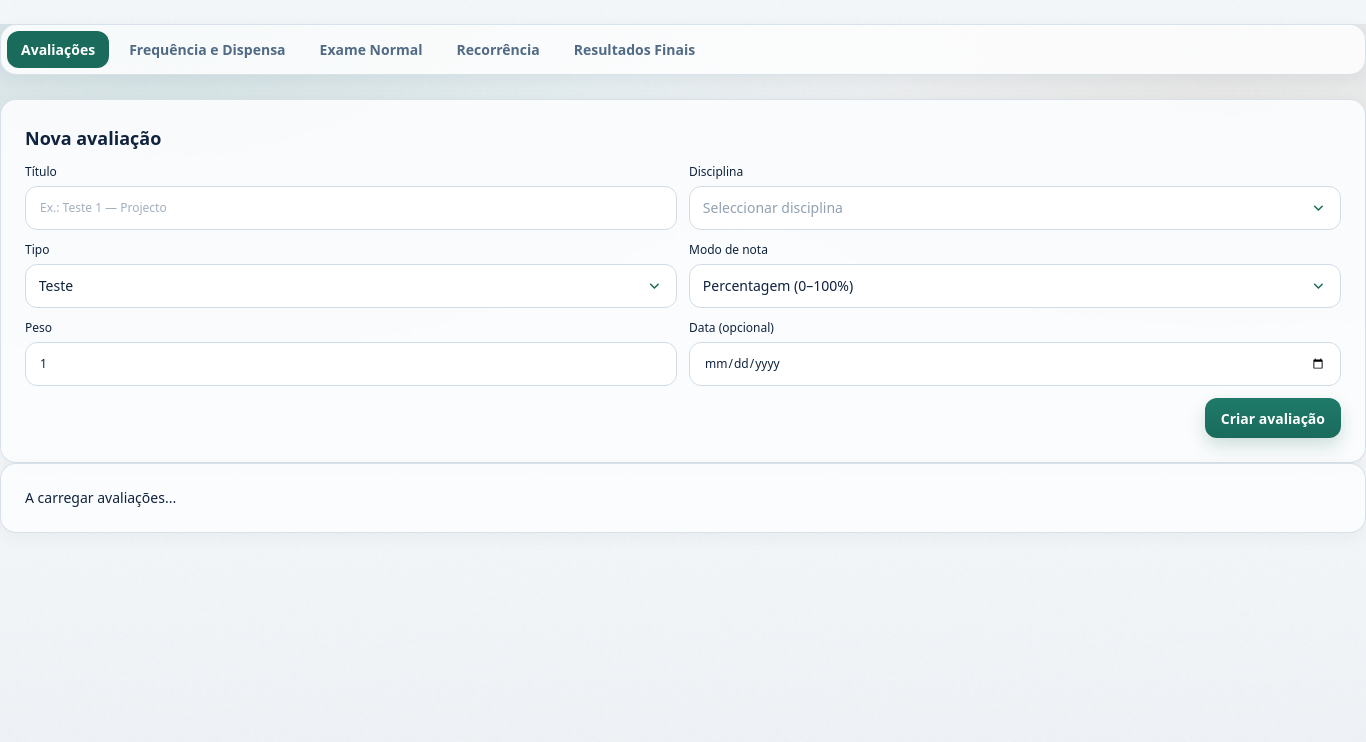
AssessmentsPage › docente vê os 5 separadores e o quadro de Frequência e Dispensa com contagens e estados
Click the tab "Frequência e Dispensa": click(207, 50) [115,31,300,68]
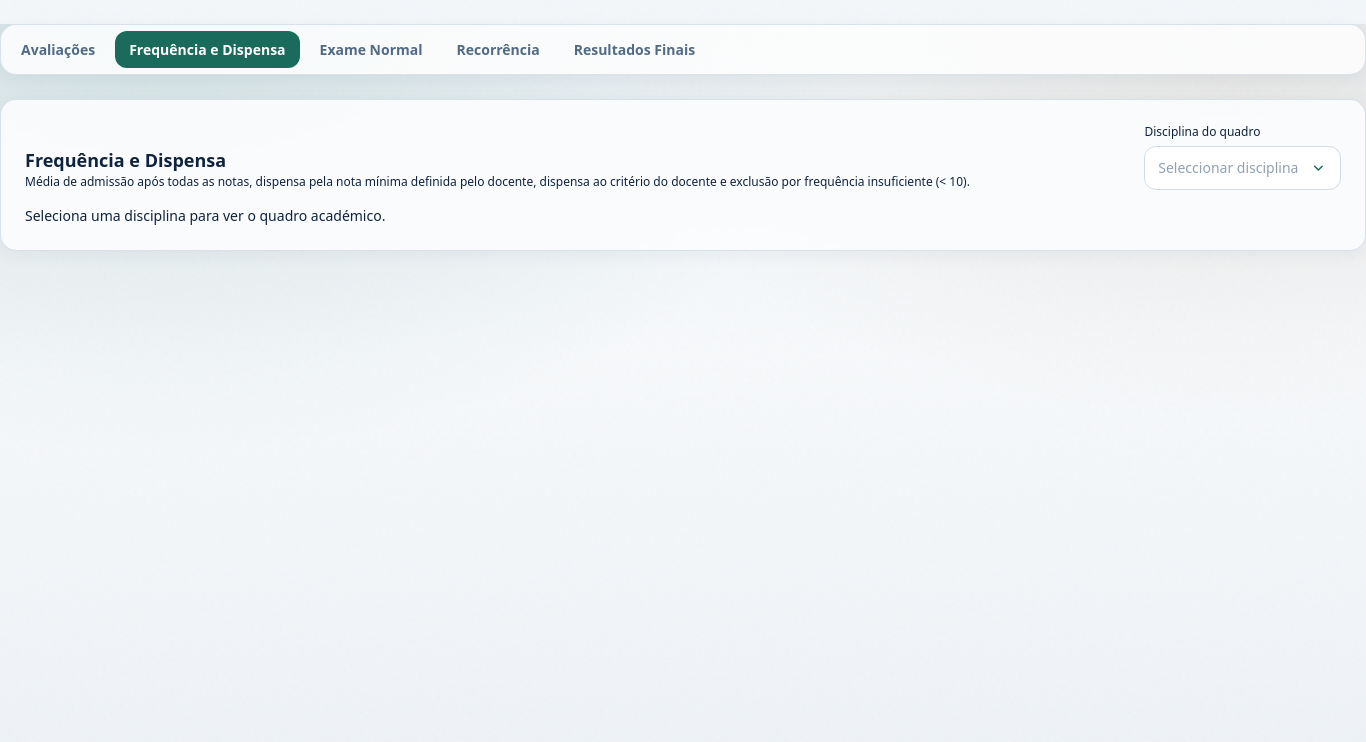
expect the label labelled "Disciplina do quadro" is shown: met
Select "PTP3 — Projeto" in the dropdown labelled "Disciplina do quadro Seleccionar disciplina": (1243, 157) [1144,124,1341,190]
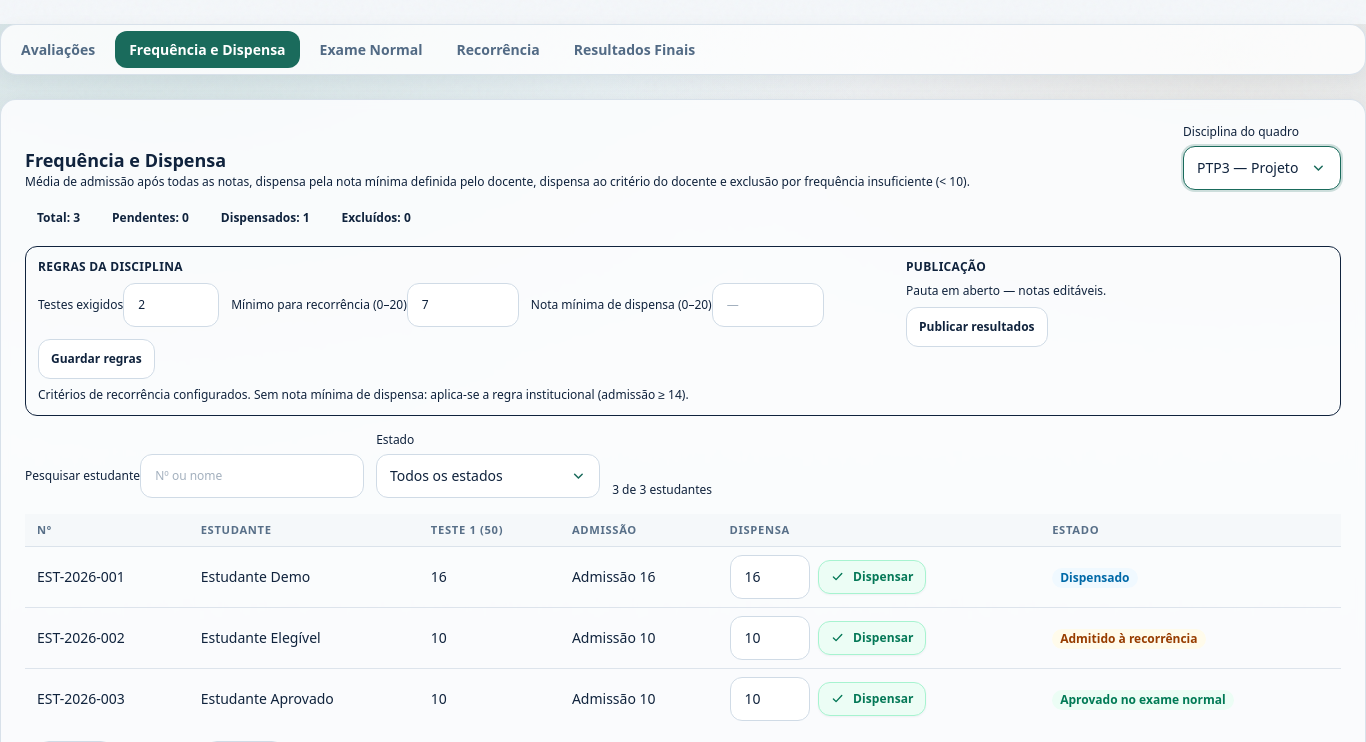
expect the text "Dispensados: 1" is shown: met, box [221,209,310,226]
expect the text "Pendentes: 0" is shown: met, box [112,209,189,226]
expect the text "Excluídos: 0" is shown: met, box [342,209,411,226]
